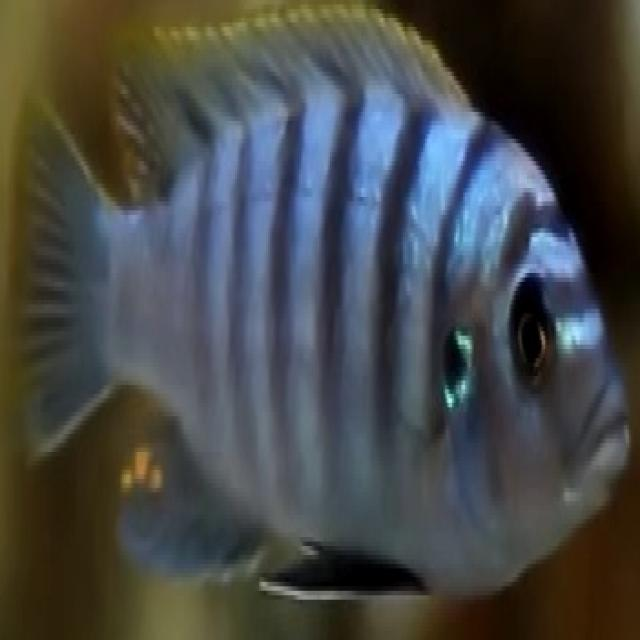fish: (0, 4, 638, 640)
